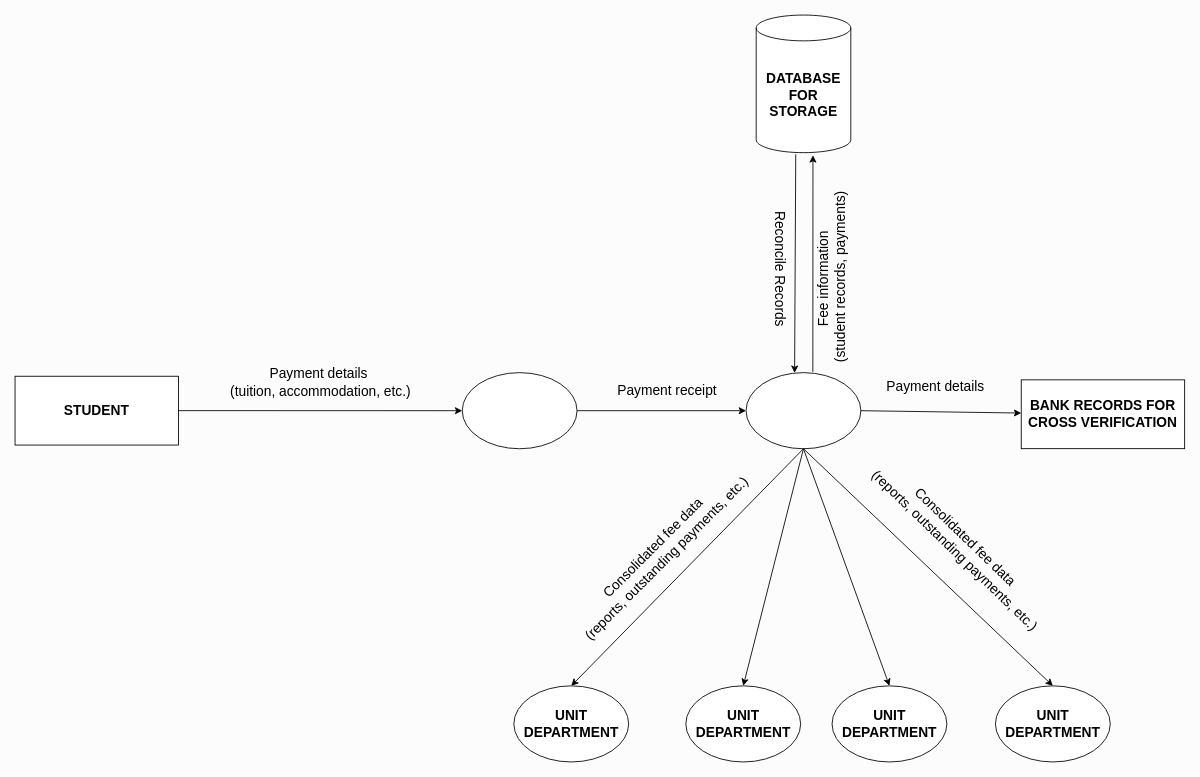
Some shapes in this 1200 by 777 pixel diagram are drawn without their labels. The centre of each missing label's shape, as x and y in pixels:
"BURSARY DEPARTMENT" goes at point (803, 410).
"ONLINE PAYMENT PORTAL" goes at point (519, 410).
